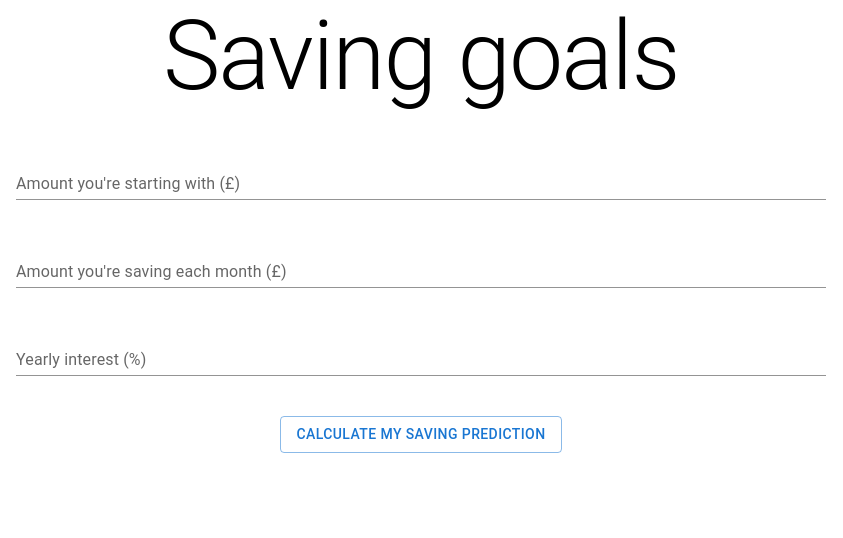
Test: SavingGoalForm › should display a form error if the yearly interest rate is not valid
Type "bad" into the field labelled "Yearly interest (%)" at [421, 360], box [16, 344, 826, 376]
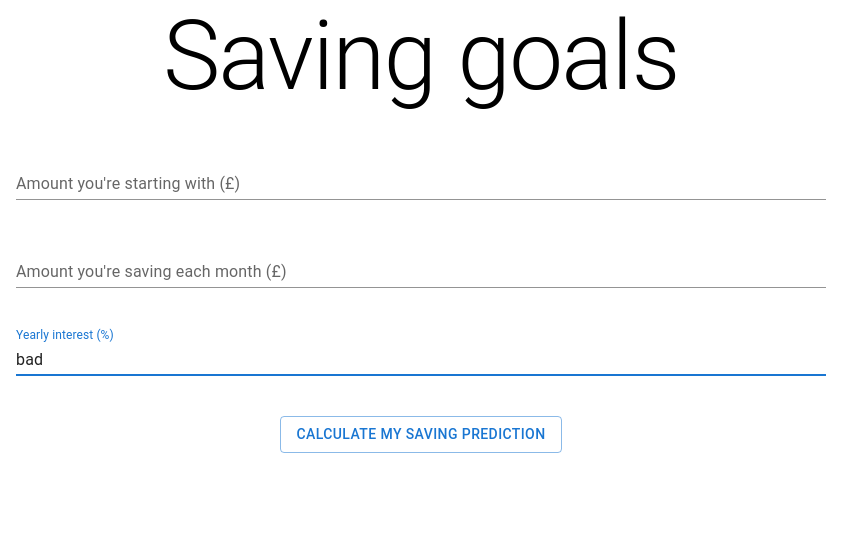
Test utils
Submit the form with test id "form", box [16, 168, 826, 452]
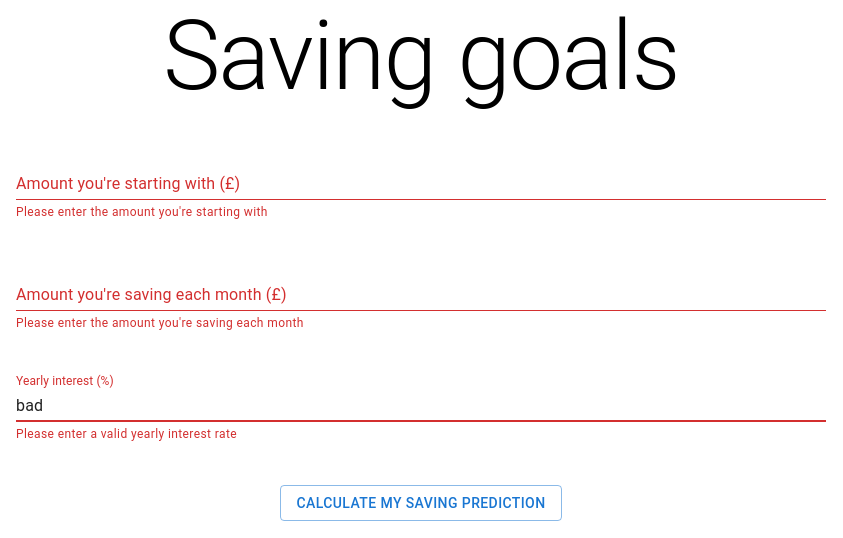
Result: the text "Please enter a valid yearly interest rate" is shown at [16, 427, 237, 441]
